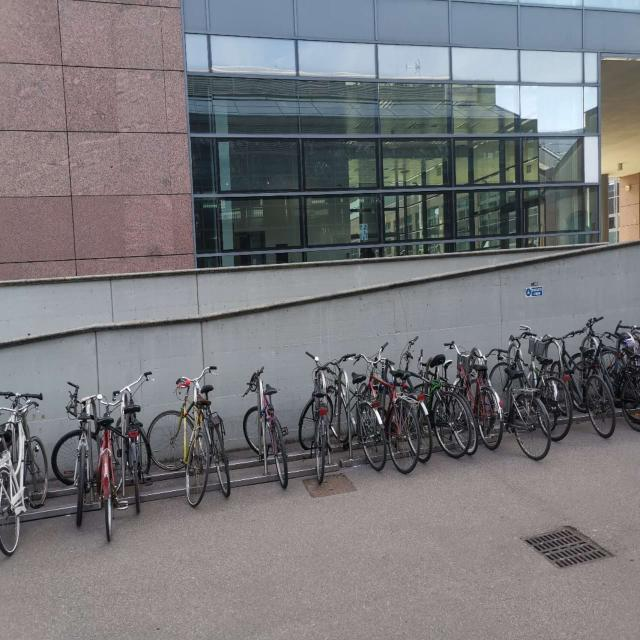Bicycle: (537, 314, 624, 458), (398, 338, 486, 475), (510, 306, 584, 450), (153, 340, 207, 536), (491, 317, 558, 472), (179, 360, 247, 510), (367, 339, 442, 473), (0, 384, 54, 567), (353, 334, 416, 485), (576, 304, 640, 450), (331, 334, 386, 501), (437, 326, 507, 453), (242, 354, 294, 510), (295, 355, 345, 495), (120, 354, 157, 531), (82, 389, 124, 539), (65, 375, 92, 534)
